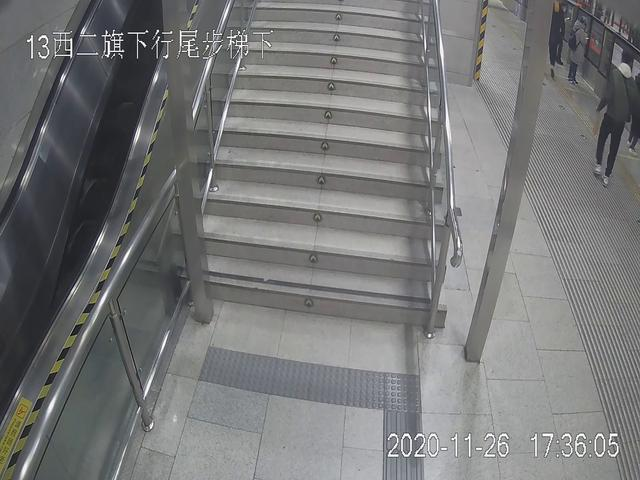person: (595, 44, 638, 185), (558, 6, 597, 109)
